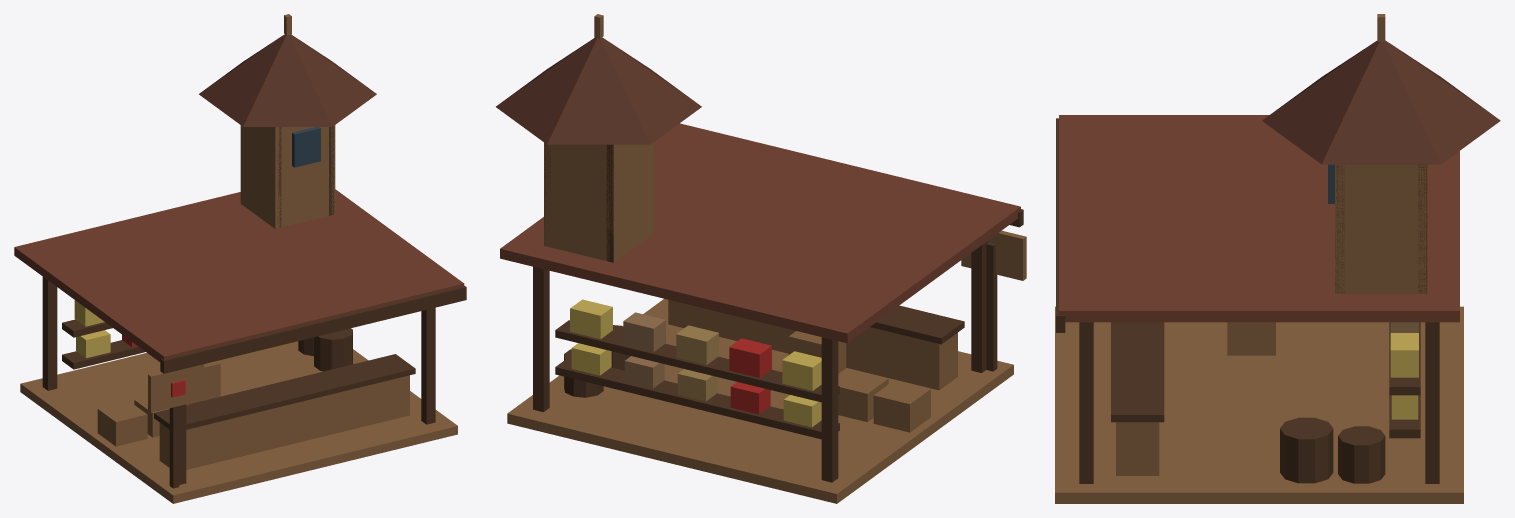
The model's file is trade.glb.
The picture shows the model from 3 angles, left to right: view 1: azimuth 30°, elevation 25°; view 2: azimuth 150°, elevation 25°; view 3: azimuth 270°, elevation 25°; orthographic projection. The views are drawn at different scales.
Visible parts, largest first — view 1: trade; view 2: trade; view 3: trade.
Boxes of the visible parts, x1,y1,x2,y2 form: trade: (14,14,466,503); trade: (496,14,1026,503); trade: (1055,14,1500,503).
Bounding box in the file's own units: 6.29 × 6.41 × 5.67.
